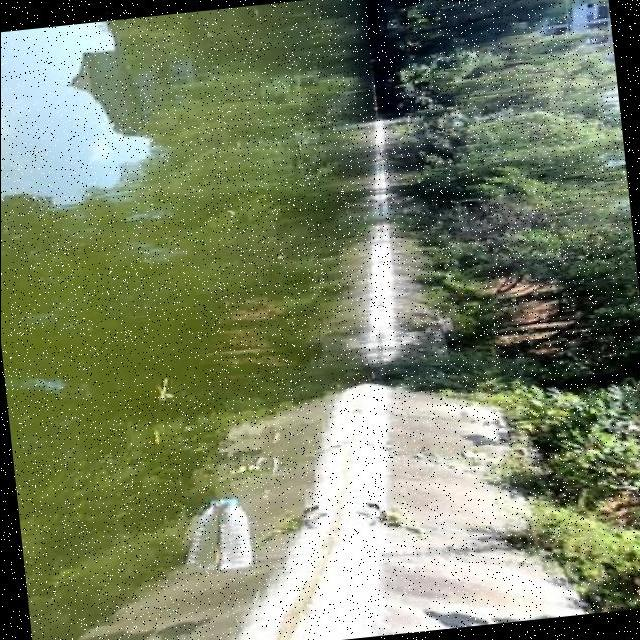Bottle: (207, 493, 259, 577)
